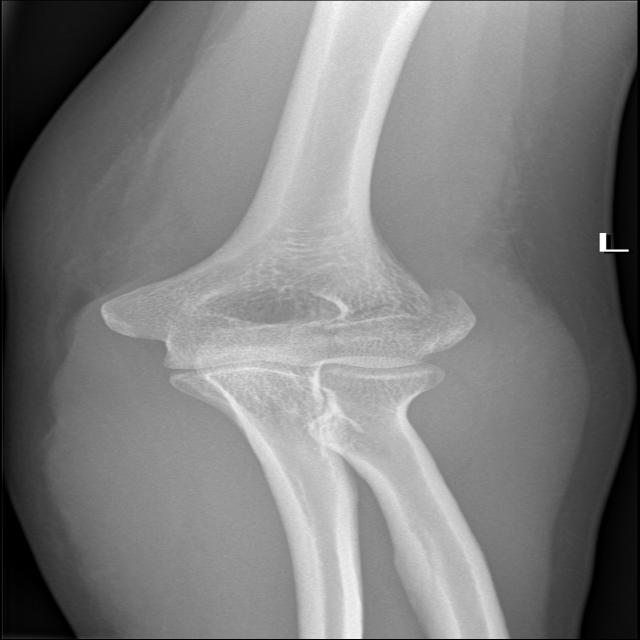elbow positive: (377, 277, 501, 329)
